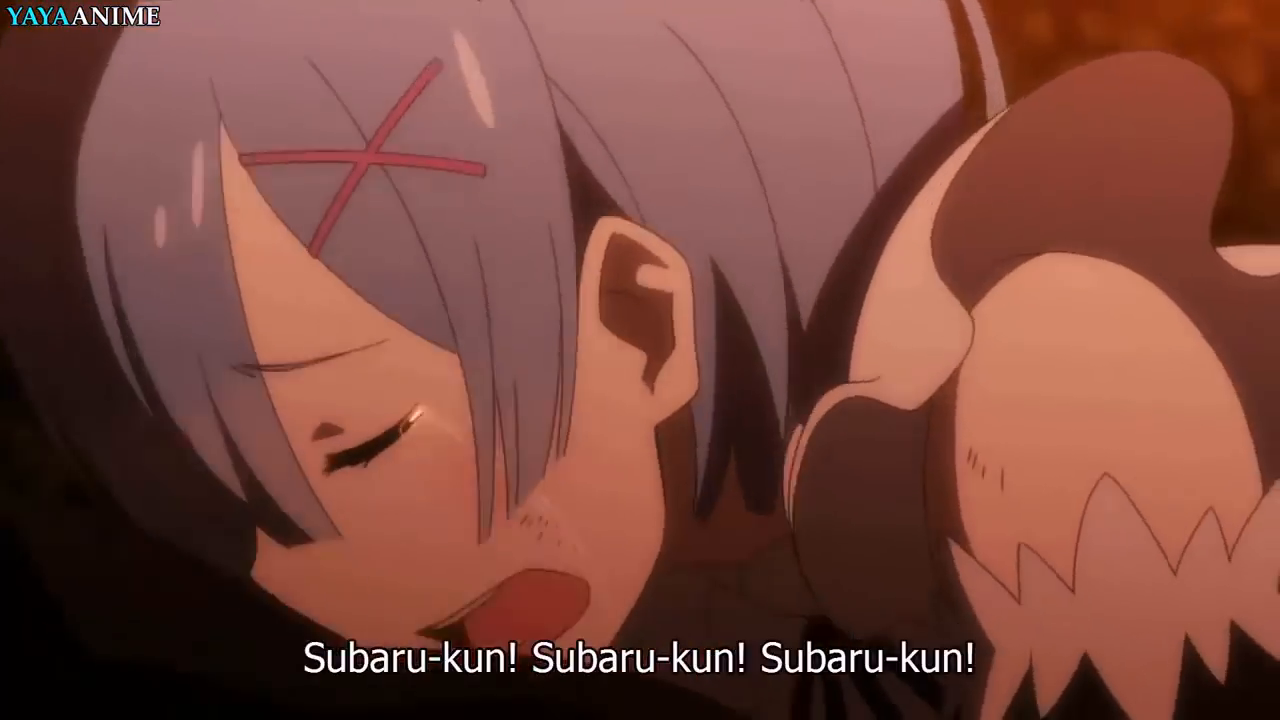REM: (67, 2, 1006, 666)
